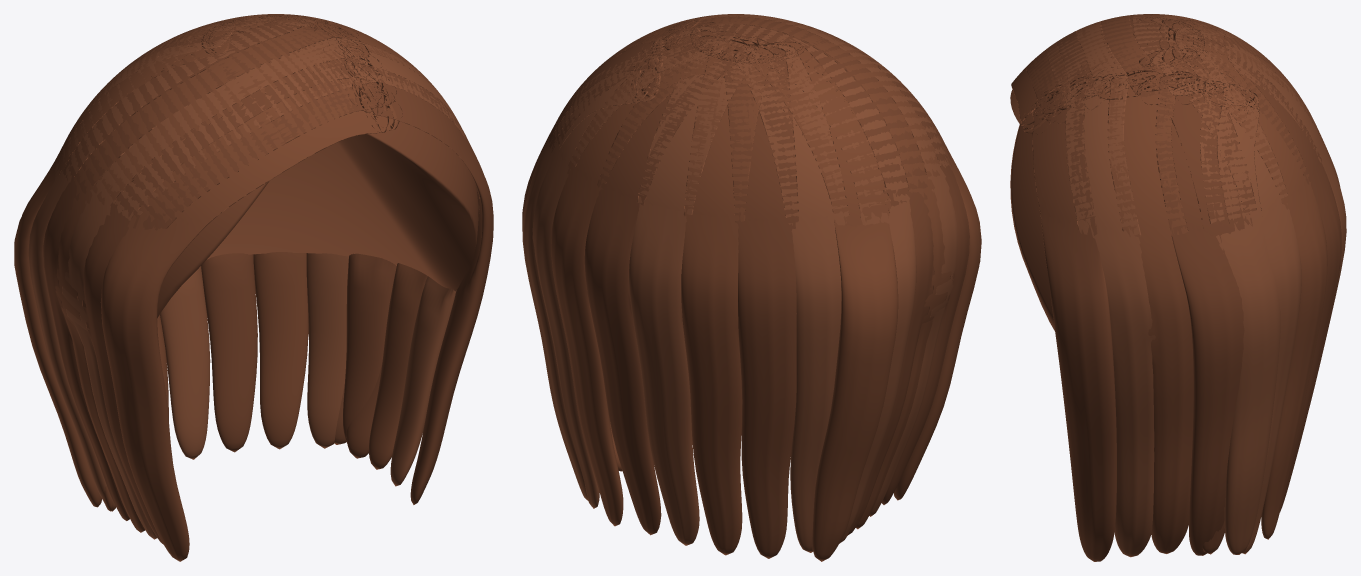
File: Feminine-straight-covered-hair.glb
3 views of the same model, side by side, from view 1: azimuth 30°, elevation 25°; view 2: azimuth 150°, elevation 25°; view 3: azimuth 270°, elevation 25° (orthographic). The views are drawn at different scales.
Visible parts, largest first — view 1: 226 hair / Hair / sculpted 0.001, 226 hair / Hair / sculpted 1.002, 226 hair / Hair / sculpted 2.001, 226 hair / Hair / sculpted 1.001; view 2: 226 hair / Hair / sculpted 0.001, 226 hair / Hair / sculpted 2.001, 226 hair / Hair / sculpted 1.002; view 3: 226 hair / Hair / sculpted 1.002, 226 hair / Hair / sculpted 2.001, 226 hair / Hair / sculpted 0.001, 226 hair / Hair / sculpted 1.001.
Boxes of the visible parts, box(x1,y1,x2,y2) form: 226 hair / Hair / sculpted 0.001: box(14, 14, 437, 561); 226 hair / Hair / sculpted 1.002: box(43, 14, 493, 544); 226 hair / Hair / sculpted 2.001: box(28, 14, 479, 539); 226 hair / Hair / sculpted 1.001: box(157, 121, 478, 318); 226 hair / Hair / sculpted 0.001: box(551, 14, 981, 561); 226 hair / Hair / sculpted 2.001: box(522, 14, 957, 552); 226 hair / Hair / sculpted 1.002: box(522, 14, 969, 558); 226 hair / Hair / sculpted 1.002: box(1026, 14, 1341, 561); 226 hair / Hair / sculpted 2.001: box(1046, 14, 1346, 557); 226 hair / Hair / sculpted 0.001: box(1011, 14, 1340, 553); 226 hair / Hair / sculpted 1.001: box(1010, 89, 1054, 330).
Bounding box in the file's own units: 0.9957 × 1.16 × 0.7514.
